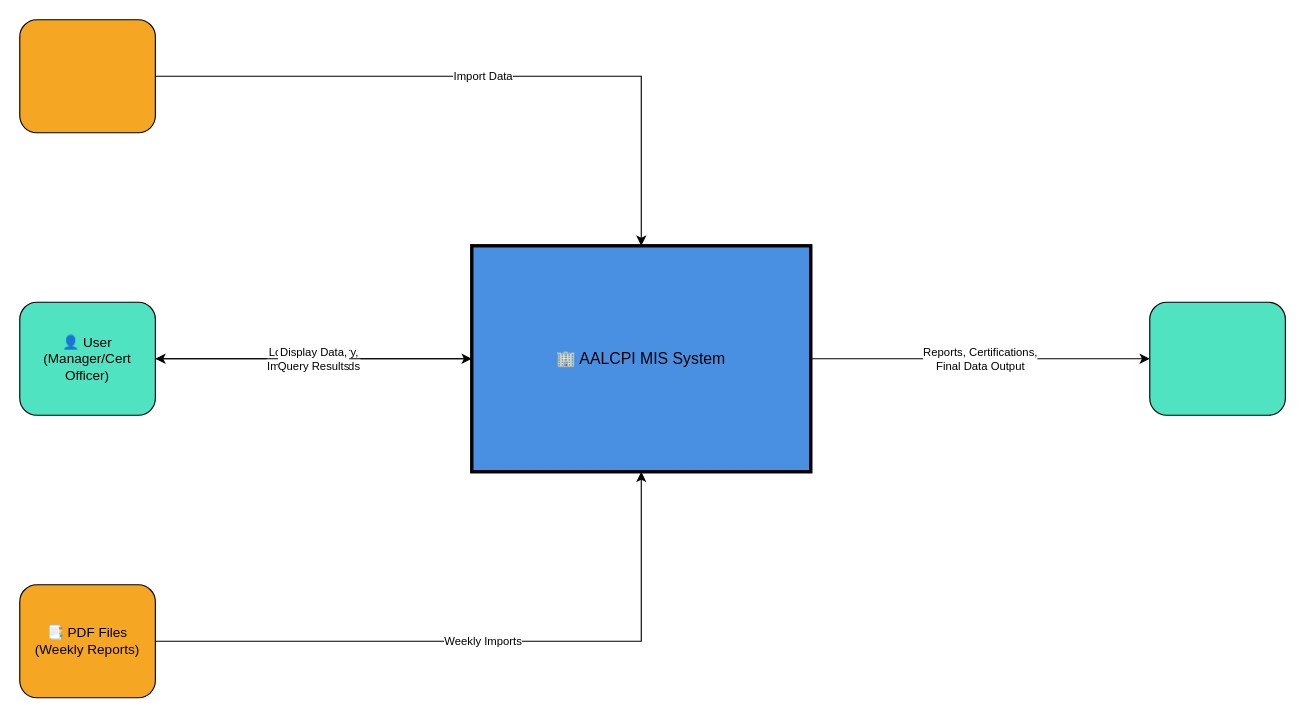
This 1305x718 diagram has some shape labels left out. Here are the shapes that lost their labels. From the top down, the box of each, then its label:
(19, 19, 155, 133): 📄 Excel Files (Planters, Productions, Attendance Data)
(1149, 301, 1285, 415): 📊 Reports & Data (PDF Output, Final Data)
